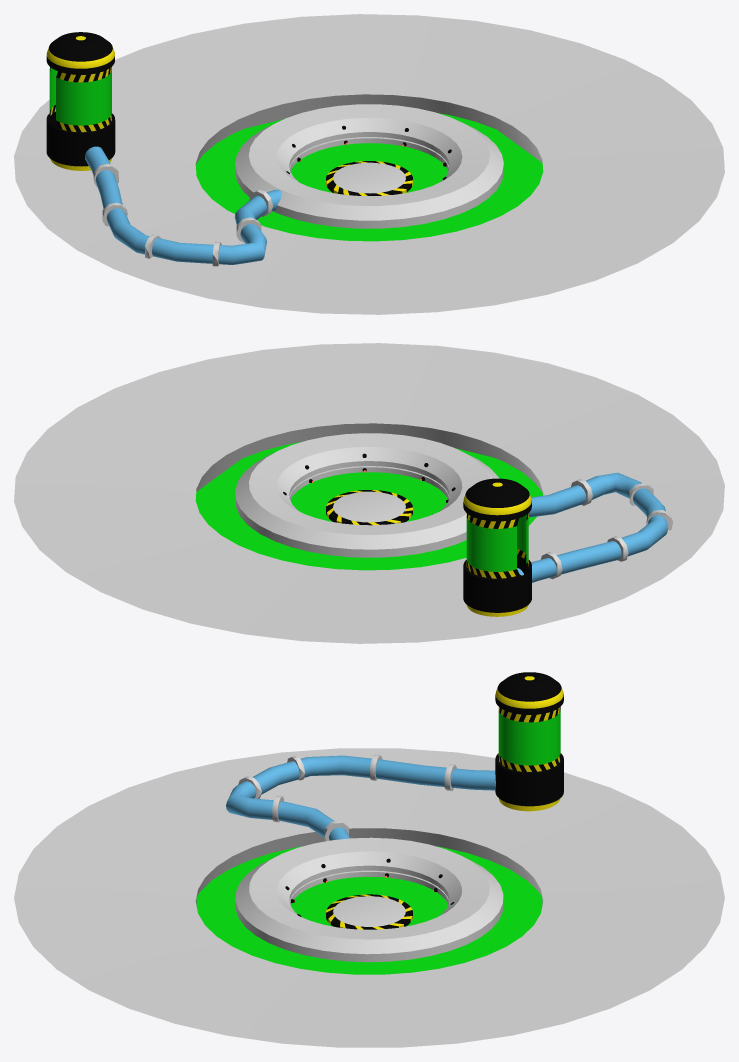
The model's file is Demo_Interview.fbx.
3 renders of one model, top to bottom at view 1: azimuth 30°, elevation 25°; view 2: azimuth 150°, elevation 25°; view 3: azimuth 270°, elevation 25°, orthographic.
Parts seen in each view (by area): view 1: Circle.003, BezierCurve, Circle, Cylinder.022; view 2: Circle.003, BezierCurve, Circle, Cylinder.022; view 3: Circle.003, BezierCurve, Circle, Cylinder.022.
Boxes of the visible parts, left/top/right/bottom form: Circle.003: left=14, top=14, right=724, bottom=314; BezierCurve: left=85, top=146, right=281, bottom=264; Circle: left=326, top=161, right=412, bottom=195; Cylinder.022: left=93, top=163, right=261, bottom=266; Circle.003: left=14, top=343, right=724, bottom=643; BezierCurve: left=517, top=472, right=667, bottom=582; Circle: left=326, top=490, right=412, bottom=525; Cylinder.022: left=541, top=479, right=672, bottom=579; Circle.003: left=14, top=672, right=724, bottom=1047; BezierCurve: left=226, top=755, right=495, bottom=840; Circle: left=326, top=894, right=412, bottom=929; Cylinder.022: left=238, top=754, right=456, bottom=822.
Bounding box in the file's own units: 8693 × 2456 × 8723.
